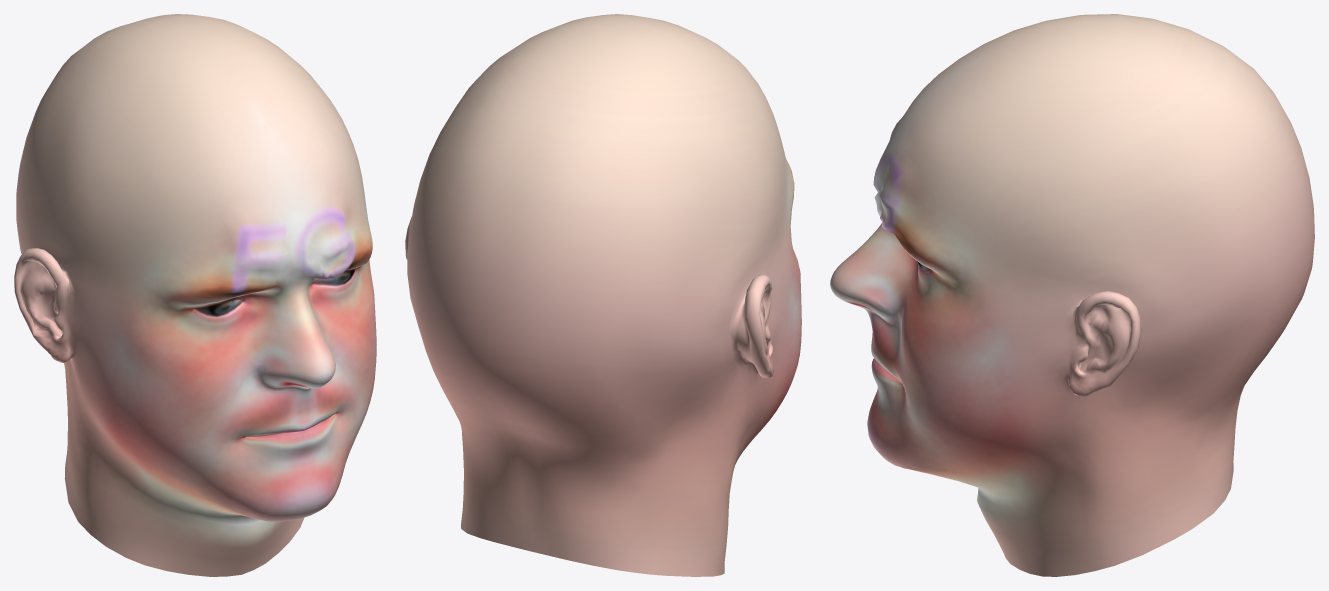
The model's file is avg_anyrace_male_17.obj.
The picture shows the model from 3 angles, left to right: view 1: azimuth 30°, elevation 25°; view 2: azimuth 150°, elevation 25°; view 3: azimuth 270°, elevation 25°; orthographic projection. The views are drawn at different scales.
Parts seen in each view (by area): view 1: HeadHires; view 2: HeadHires; view 3: HeadHires.
Boxes of the visible parts, x1,y1,x2,y2 form: HeadHires: (14,14,376,576); HeadHires: (405,14,801,576); HeadHires: (830,14,1314,576).
Size of the model in its own units: 192 by 282 by 237.
3 materials, 3 textured.
